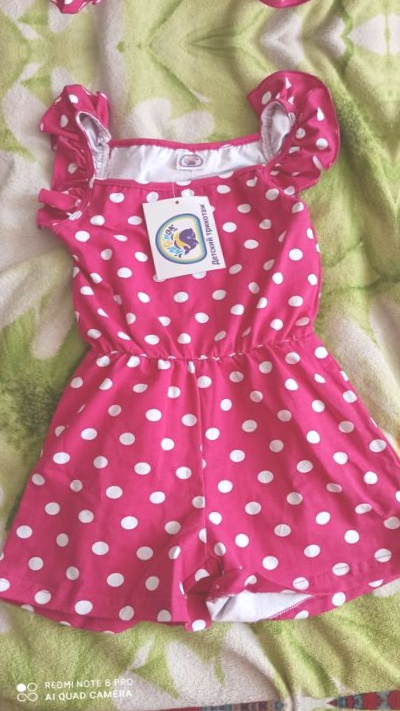Dress: (0, 51, 400, 658), (0, 0, 387, 36), (389, 32, 400, 639), (360, 0, 400, 17)
